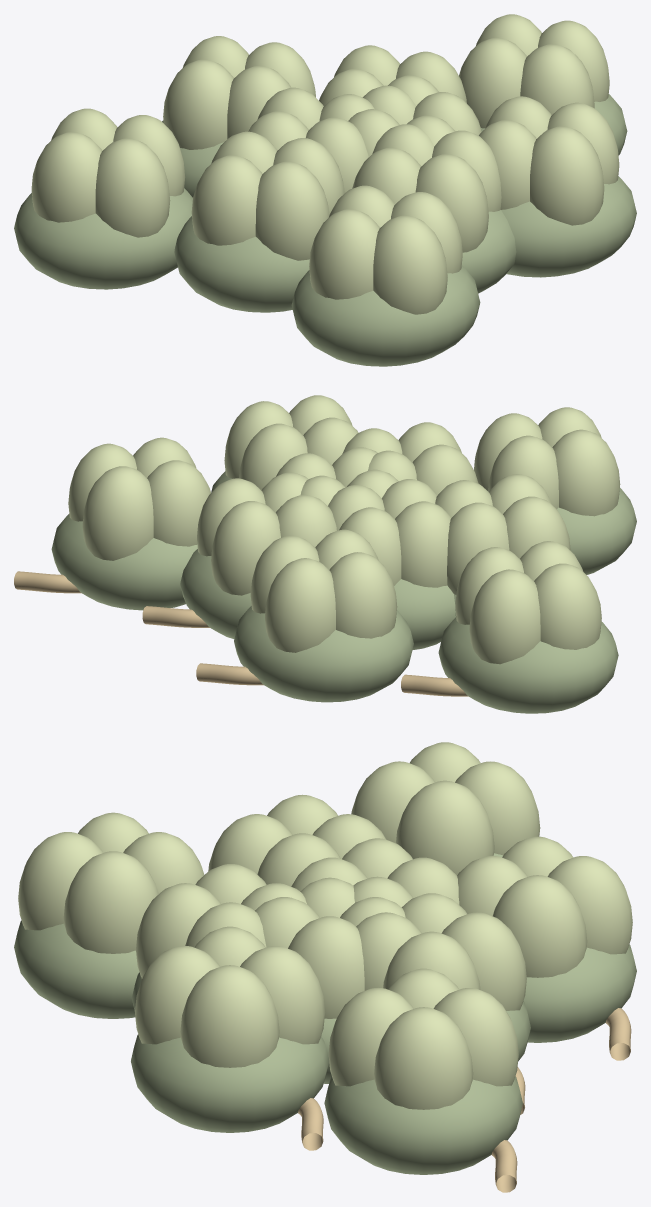
The model's file is bio_oxygen_reef_01_near.glb.
The picture shows the model from 3 angles, top to bottom: view 1: azimuth 30°, elevation 25°; view 2: azimuth 150°, elevation 25°; view 3: azimuth 270°, elevation 25°; orthographic projection. The views are drawn at different scales.
Parts seen in each view (by area): view 1: Lobed gas sac.028, Lobed gas sac.036, Lobed gas sac.016, Lobed gas sac.020, Lobed gas sac.032, Photosynthetic cushion.007, Lobed gas sac.024, Lobed gas sac.008, Photosynthetic cushion.009, Photosynthetic cushion.004, Photosynthetic cushion.005, Lobed gas sac.004 (+5 smaller); view 2: Lobed gas sac.036, Lobed gas sac.024, Lobed gas sac.032, Lobed gas sac.028, Photosynthetic cushion.009, Photosynthetic cushion.006, Lobed gas sac.012, Lobed gas sac.004, Lobed gas sac.016, Lobed gas sac.020, Photosynthetic cushion.008, Lobed gas sac.008 (+8 smaller); view 3: Lobed gas sac.032, Lobed gas sac.020, Lobed gas sac.028, Lobed gas sac.036, Lobed gas sac.024, Photosynthetic cushion.008, Photosynthetic cushion.005, Lobed gas sac.012, Lobed gas sac, Lobed gas sac.016, Lobed gas sac.008, Photosynthetic cushion.007 (+6 smaller).
Part boxes in pixels (<box>): Lobed gas sac.028: <box>309,185,462,314</box>; Lobed gas sac.036: <box>31,108,185,237</box>; Lobed gas sac.016: <box>191,131,344,260</box>; Lobed gas sac.020: <box>479,96,619,225</box>; Lobed gas sac.032: <box>459,14,609,128</box>; Photosynthetic cushion.007: <box>291,265,480,366</box>; Lobed gas sac.024: <box>163,36,315,149</box>; Lobed gas sac.008: <box>352,124,501,252</box>; Photosynthetic cushion.009: <box>14,188,192,289</box>; Photosynthetic cushion.004: <box>174,216,309,312</box>; Photosynthetic cushion.005: <box>501,176,636,277</box>; Lobed gas sac.004: <box>248,87,374,192</box>; Lobed gas sac.036: <box>455,541,601,664</box>; Lobed gas sac.024: <box>250,529,397,652</box>; Lobed gas sac.032: <box>68,437,210,560</box>; Lobed gas sac.028: <box>474,407,620,516</box>; Photosynthetic cushion.009: <box>438,617,618,713</box>; Photosynthetic cushion.006: <box>234,606,413,702</box>; Lobed gas sac.012: <box>197,472,336,595</box>; Lobed gas sac.004: <box>328,479,451,587</box>; Lobed gas sac.016: <box>435,474,570,594</box>; Lobed gas sac.020: <box>224,395,358,490</box>; Photosynthetic cushion.008: <box>51,514,197,610</box>; Lobed gas sac.008: <box>342,422,478,495</box>; Lobed gas sac.032: <box>328,968,518,1109</box>; Lobed gas sac.020: <box>135,926,325,1067</box>; Lobed gas sac.028: <box>18,812,204,953</box>; Lobed gas sac.036: <box>351,742,540,875</box>; Lobed gas sac.024: <box>457,836,632,977</box>; Photosynthetic cushion.008: <box>324,1076,522,1174</box>; Photosynthetic cushion.005: <box>131,1034,329,1132</box>; Lobed gas sac.012: <box>356,893,526,1010</box>; Lobed gas sac: <box>255,877,405,1018</box>; Lobed gas sac.016: <box>208,794,386,886</box>; Lobed gas sac.008: <box>136,864,306,978</box>; Photosynthetic cushion.007: <box>14,920,139,1018</box>.
Bounding box in the file's own units: 1.85 × 0.45 × 1.51.
